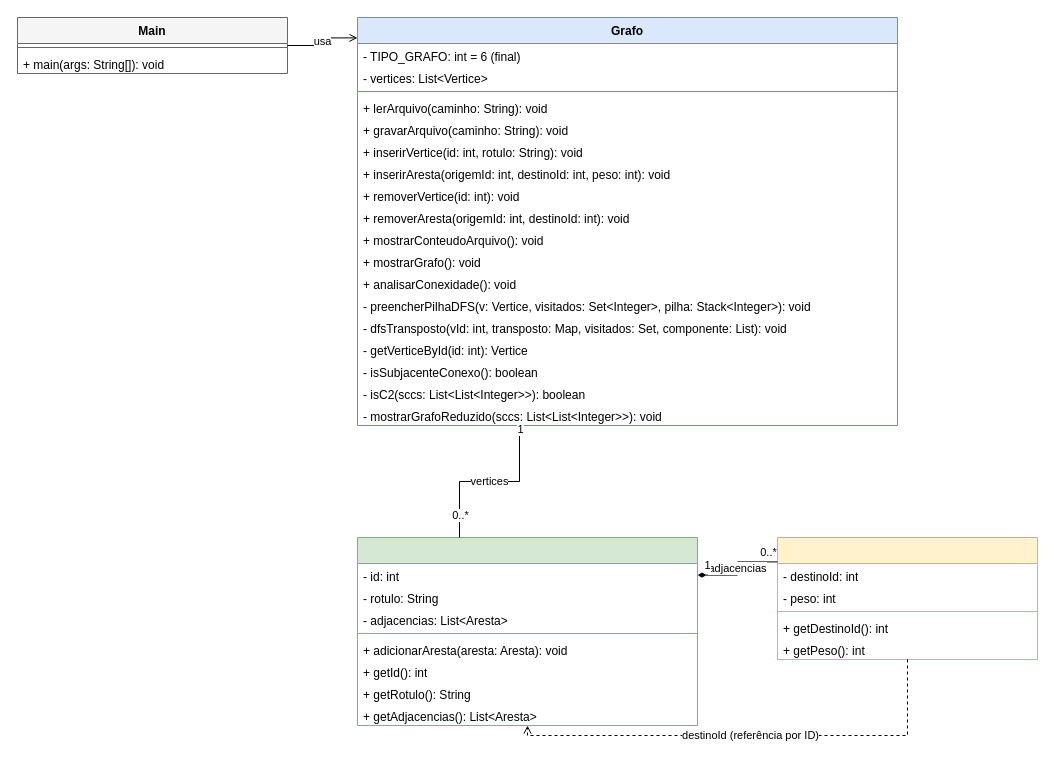
This 1055x761 diagram has some shape labels left out. Each missing label, with the box of its shape:
Aresta: (776, 536, 1038, 660)
Vertice: (356, 536, 698, 726)
